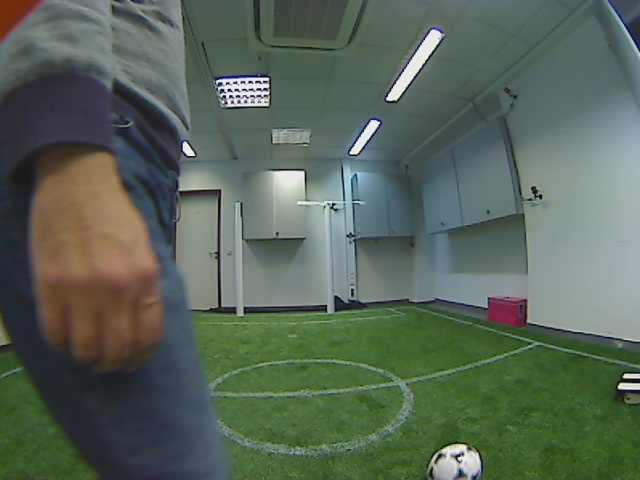ball: (422, 438, 488, 479)
